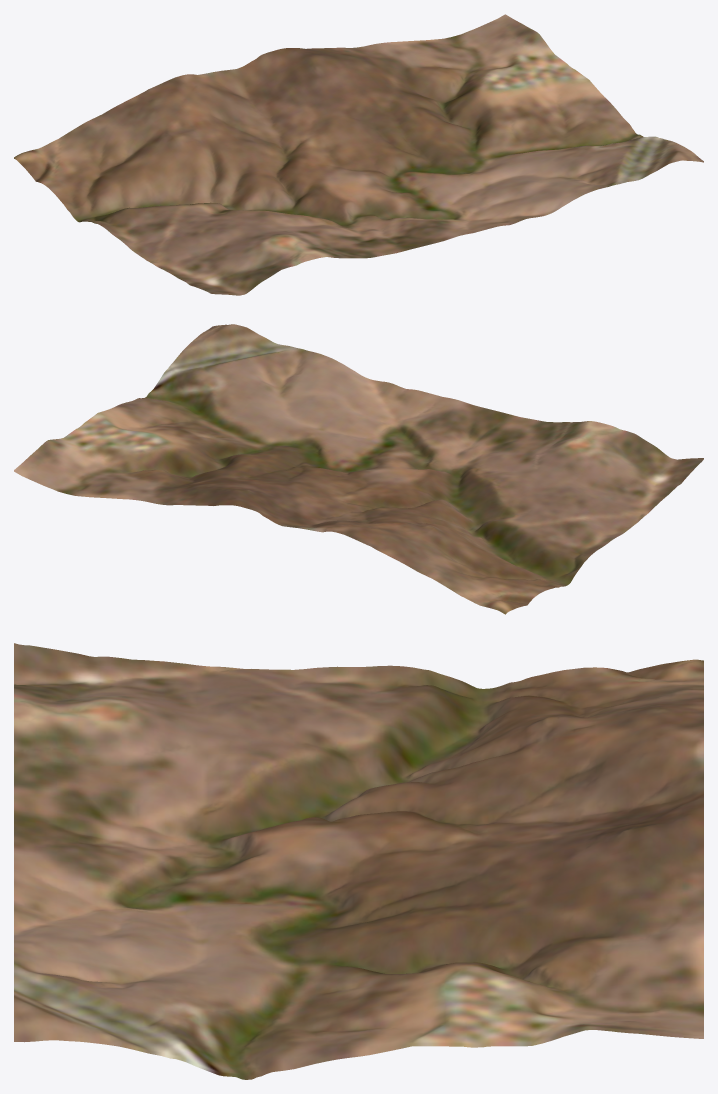
The model's file is terrain_r5_c1.glb.
3 views of the same model, one above another, from view 1: azimuth 30°, elevation 25°; view 2: azimuth 150°, elevation 25°; view 3: azimuth 270°, elevation 25° (orthographic). The views are drawn at different scales.
Visible parts, largest first — view 1: terrain_r5_c1_lod0; view 2: terrain_r5_c1_lod0; view 3: terrain_r5_c1_lod0.
Boxes of the visible parts, <box> form: terrain_r5_c1_lod0: <box>14,14,703,295</box>; terrain_r5_c1_lod0: <box>14,324,703,614</box>; terrain_r5_c1_lod0: <box>14,643,703,1079</box>.
Bounding box in the file's own units: 1125 × 134 × 787.
1 material, 1 textured.
